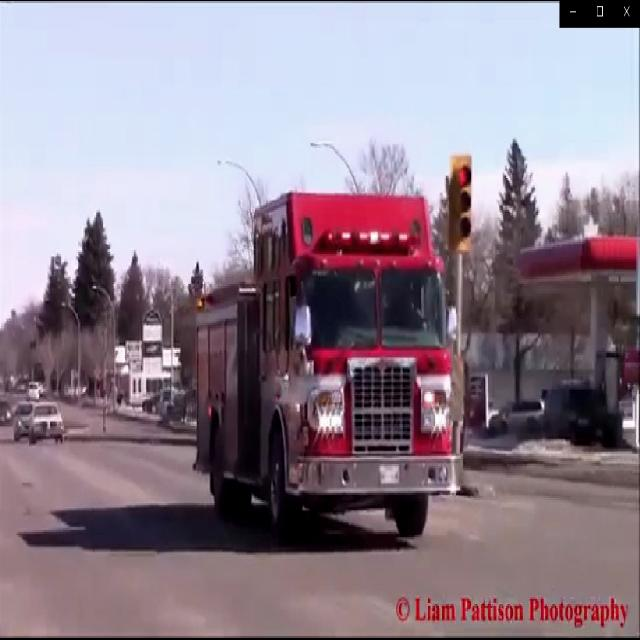emergency: (190, 190, 466, 552)
